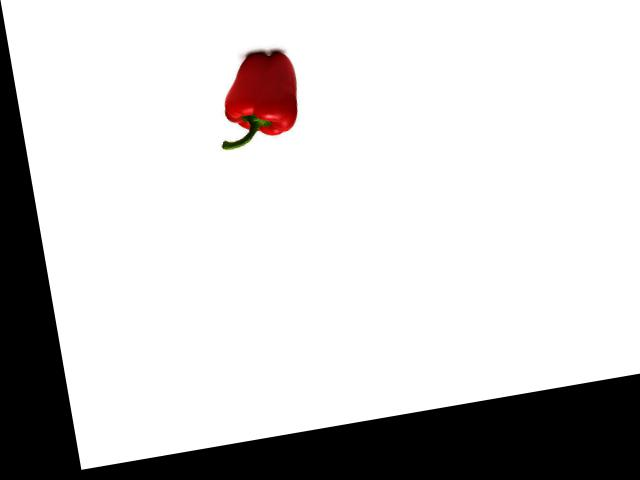bell_pepper: (203, 40, 310, 156)
